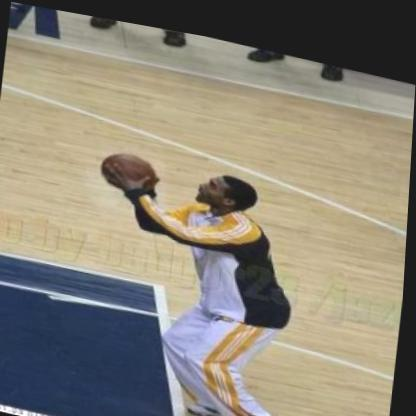basketball: (98, 138, 164, 200)
